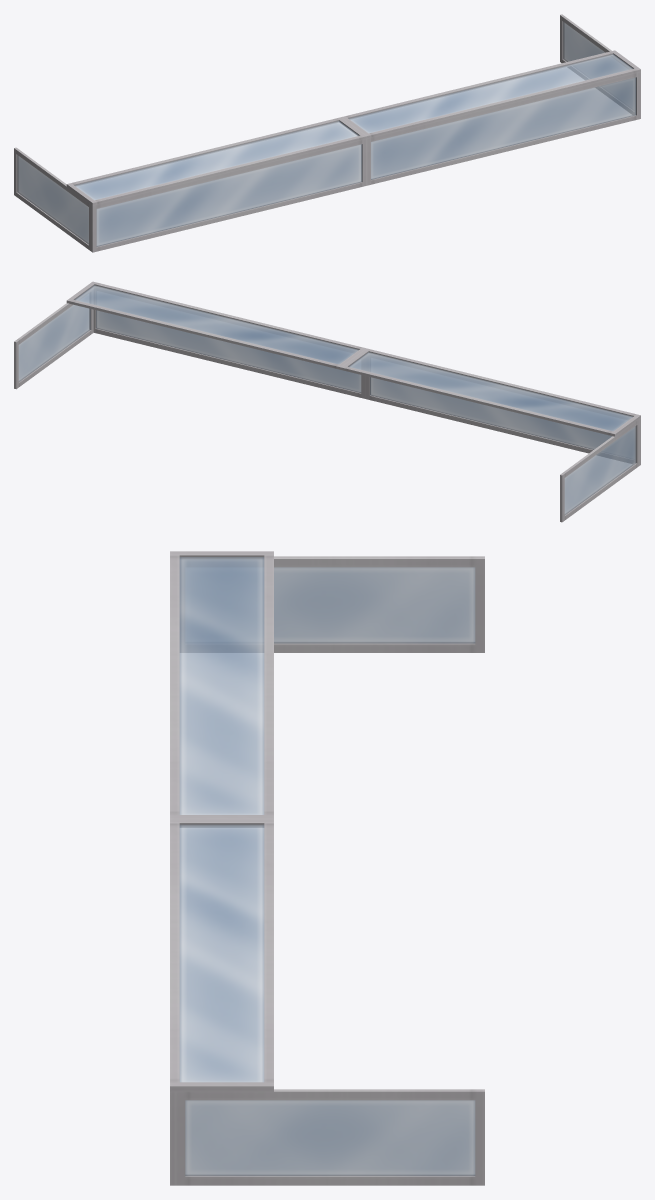
The model's file is jsf_AdditionalWindow_s04.fbx.
3 views of the same model, one above another, from view 1: azimuth 30°, elevation 25°; view 2: azimuth 150°, elevation 25°; view 3: azimuth 270°, elevation 25° (orthographic). The views are drawn at different scales.
Parts seen in each view (by area): view 1: Window, Frame; view 2: Window, Frame; view 3: Window, Frame.
Part boxes in pixels (bbox=[...]): Window: bbox=[17, 22, 636, 246]; Frame: bbox=[14, 14, 640, 252]; Window: bbox=[18, 285, 636, 514]; Frame: bbox=[14, 281, 640, 522]; Window: bbox=[179, 557, 475, 1176]; Frame: bbox=[170, 551, 484, 1185].
Bounding box in the file's own units: 334 × 28.91 × 83.15.
